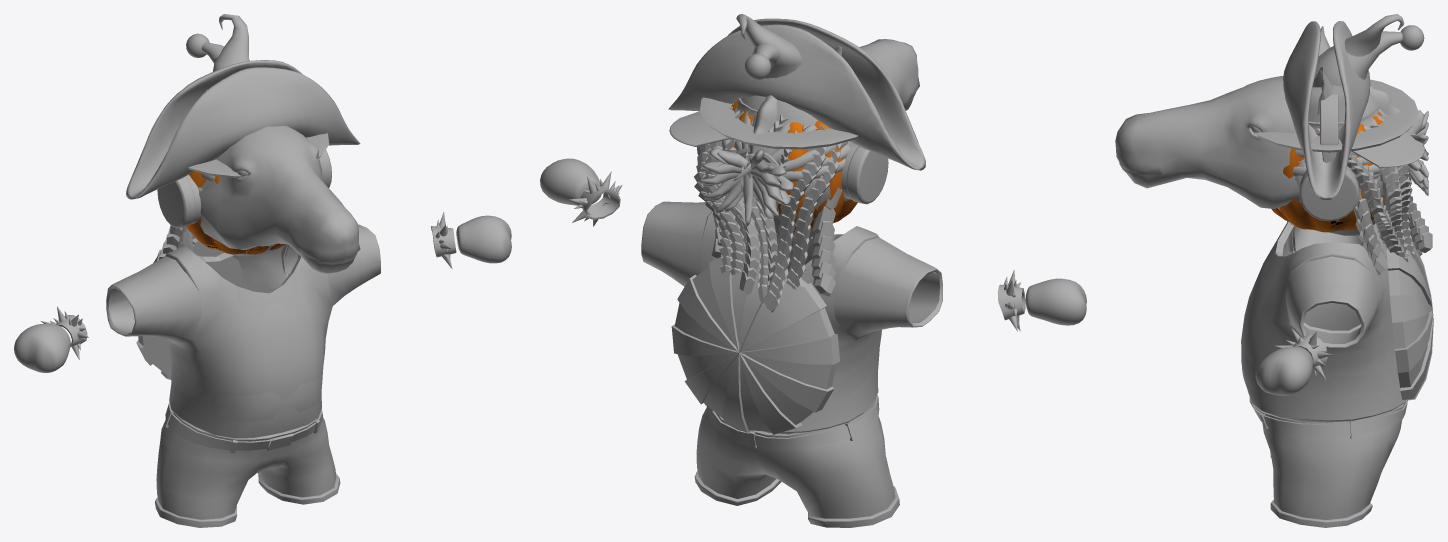
File: ali_ekipman.fbx
3 views of the same model, side by side, from view 1: azimuth 30°, elevation 25°; view 2: azimuth 150°, elevation 25°; view 3: azimuth 270°, elevation 25° (orthographic). The views are drawn at different scales.
Parts seen in each view (by area): view 1: t_sort, atkafasi, korsan, short, aklet, boxR, boxL, kulaklik1, cadi, arka, balkaba, kollukLll (+3 smaller); view 2: arka, short, t_sort, korsan, orgusac, orgu2, cadi, atkafasi, aklet, boxR, kulaklik1, sapka (+5 smaller); view 3: t_sort, atkafasi, short, korsan, orgusac, arka, aklet, cadi, kulaklik1, boxL, sapkaa, balkaba (+3 smaller).
Part boxes in pixels (bbox=[...]): t_sort: bbox=[106, 224, 380, 438]; atkafasi: bbox=[199, 89, 360, 273]; korsan: bbox=[126, 60, 360, 199]; short: bbox=[155, 401, 340, 527]; aklet: bbox=[165, 244, 328, 434]; boxR: bbox=[14, 324, 70, 372]; boxL: bbox=[456, 215, 511, 263]; kulaklik1: bbox=[157, 150, 331, 228]; cadi: bbox=[188, 14, 329, 178]; arka: bbox=[136, 238, 242, 379]; balkaba: bbox=[186, 171, 284, 254]; kollukLll: bbox=[431, 212, 456, 269]; arka: bbox=[671, 257, 839, 434]; short: bbox=[694, 394, 899, 527]; t_sort: bbox=[641, 201, 942, 433]; korsan: bbox=[668, 18, 925, 170]; orgusac: bbox=[694, 103, 855, 312]; orgu2: bbox=[698, 108, 850, 226]; cadi: bbox=[699, 14, 858, 149]; atkafasi: bbox=[748, 39, 919, 242]; aklet: bbox=[700, 211, 879, 404]; boxR: bbox=[1025, 278, 1086, 325]; kulaklik1: bbox=[697, 145, 888, 204]; sapka: bbox=[669, 95, 817, 146]; t_sort: bbox=[1241, 221, 1405, 421]; atkafasi: bbox=[1115, 26, 1408, 235]; short: bbox=[1249, 397, 1407, 527]; korsan: bbox=[1283, 21, 1370, 199]; orgusac: bbox=[1315, 118, 1432, 275]; arka: bbox=[1386, 245, 1433, 400]; aklet: bbox=[1241, 221, 1388, 399]; cadi: bbox=[1254, 14, 1418, 152]; kulaklik1: bbox=[1299, 94, 1359, 221]; boxL: bbox=[1255, 346, 1312, 395]; sapkaa: bbox=[1314, 25, 1424, 86]; balkaba: bbox=[1271, 112, 1384, 232].
Bounding box in the file's own units: 334 × 297 × 178.
